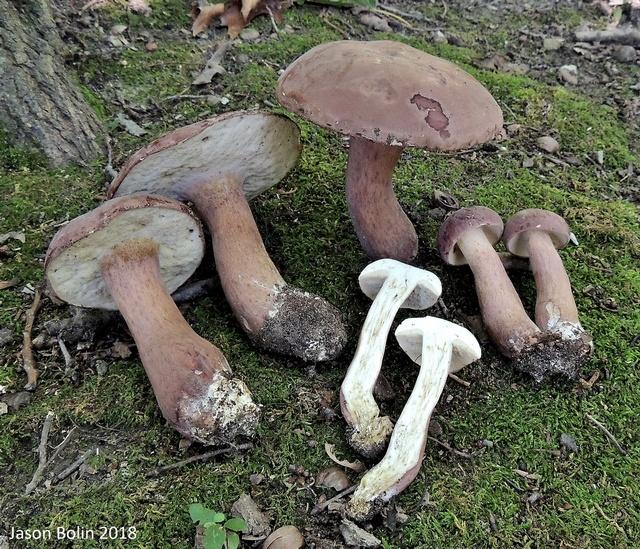Non-edible Mushroom: (43, 191, 262, 448), (274, 37, 504, 261), (319, 246, 490, 535), (433, 179, 613, 397)
